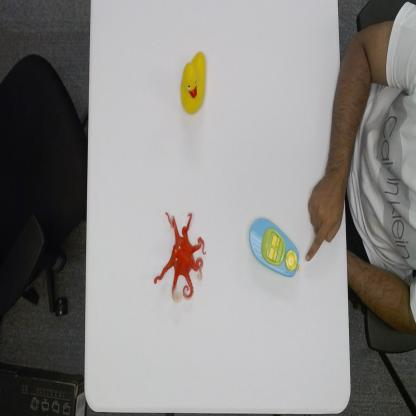Arm: (328, 25, 390, 162)
Boat: (248, 215, 302, 280)
Duck: (180, 52, 210, 116)
Hand: (304, 171, 344, 264)
Octopus: (153, 209, 206, 303)
